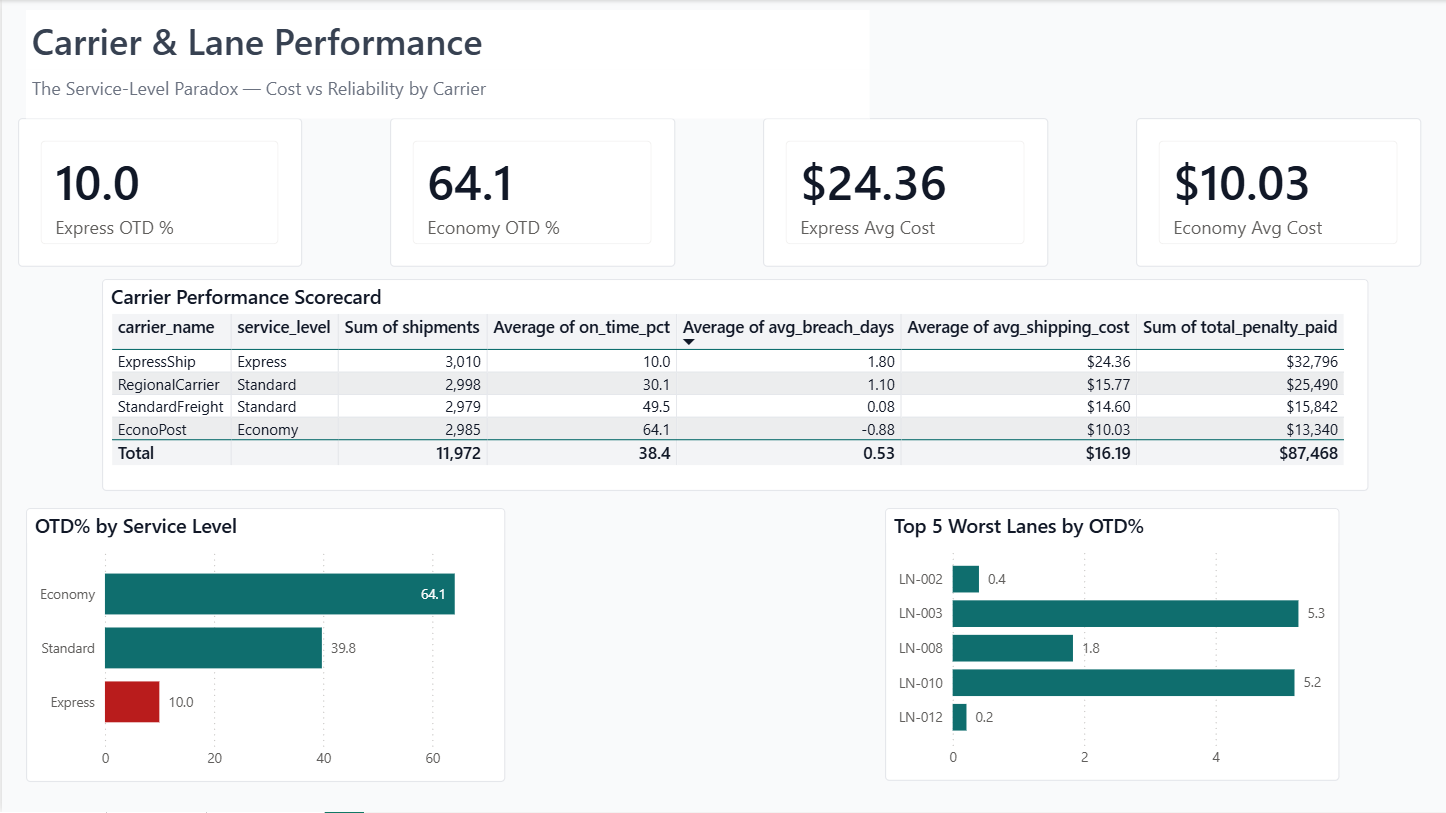

What the dashboard file says about the page in this screenshot:
{"tool":"powerbi","page":{"name":"Carrier &  Lane","canvas":[1280,720],"ordinal":2},"visuals":[{"type":"cardVisual","fields":{"Data":["Avg(public mart_carrier_performance.on_time_pct)"]},"box":[14.6,105,251.9,132.3],"z":0},{"type":"cardVisual","fields":{"Data":["Avg(public mart_carrier_performance.on_time_pct)"]},"box":[344.3,105,252.9,132.3],"z":1000},{"type":"cardVisual","fields":{"Data":["Avg(public mart_carrier_performance.avg_shipping_cost)"]},"box":[675,105,252.9,132.3],"z":2000},{"type":"cardVisual","fields":{"Data":["Avg(public mart_carrier_performance.avg_shipping_cost)"]},"box":[1005.7,105,252.9,132.3],"z":3000},{"type":"tableEx","title":"Carrier Performance Scorecard","fields":{"Values":["public mart_carrier_performance.carrier_name","public mart_carrier_performance.service_level","Sum(public mart_carrier_performance.shipments)","Avg(public mart_carrier_performance.on_time_pct)","Avg(public mart_carrier_performance.avg_breach_days)","Avg(public mart_carrier_performance.avg_shipping_cost)","Sum(public mart_carrier_performance.total_penalty_paid)"]},"box":[88.5,247.1,1123.4,187.7],"z":4000},{"type":"clusteredBarChart","title":"OTD% by Service Level","fields":{"Category":["public mart_carrier_performance.service_level"],"Y":["Avg(public mart_carrier_performance.on_time_pct)"]},"box":[21.4,450.3,425,243.2],"z":5000},{"type":"clusteredBarChart","title":"Top 5 Worst Lanes by OTD%","fields":{"Category":["public mart_lane_performance.lane_id"],"Y":["Avg(public mart_lane_performance.on_time_pct)"]},"box":[783.3,450.6,403.4,242.5],"z":6000},{"type":"textbox","box":[21.6,61.8,748,43.2],"z":7000},{"type":"textbox","box":[21.6,8.8,748,53],"z":8000}]}

Visuals, with their boxes in screenshot pixels (x1, y1, x2, y2), scaled from the page's 1280x720 canvas onto the 1446x813 screenshot:
cardVisual - Avg(public mart_carrier_performance.on_time_pct): bbox=[16, 119, 301, 268]
cardVisual - Avg(public mart_carrier_performance.on_time_pct): bbox=[389, 119, 675, 268]
cardVisual - Avg(public mart_carrier_performance.avg_shipping_cost): bbox=[763, 119, 1048, 268]
cardVisual - Avg(public mart_carrier_performance.avg_shipping_cost): bbox=[1136, 119, 1422, 268]
"Carrier Performance Scorecard" tableEx: bbox=[100, 279, 1369, 491]
"OTD% by Service Level" clusteredBarChart: bbox=[24, 508, 504, 783]
"Top 5 Worst Lanes by OTD%" clusteredBarChart: bbox=[885, 509, 1341, 783]
textbox: bbox=[24, 70, 869, 119]
textbox: bbox=[24, 10, 869, 70]
